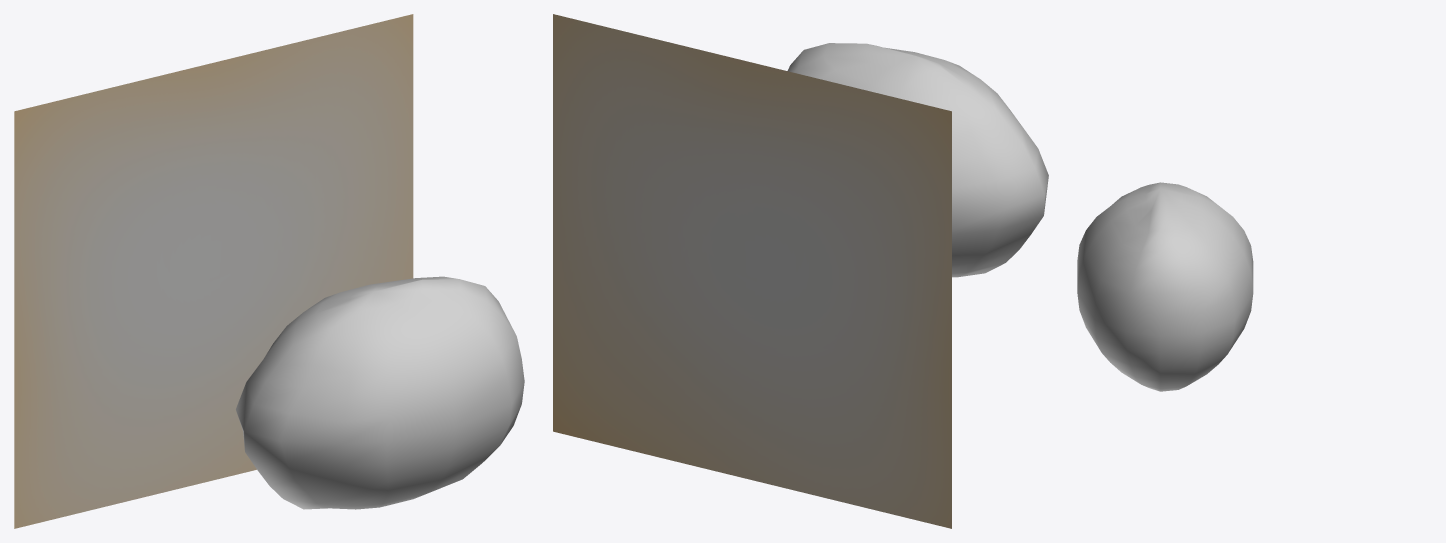
File: stoneA.fbx
3 renders of one model, left to right at view 1: azimuth 30°, elevation 25°; view 2: azimuth 150°, elevation 25°; view 3: azimuth 270°, elevation 25°, orthographic. The views are drawn at different scales.
Visible parts, largest first — view 1: pPlane1, pSphere1; view 2: pPlane1, pSphere1; view 3: pSphere1.
Part boxes in pixels (bbox=[...]): pPlane1: bbox=[14, 14, 413, 528]; pSphere1: bbox=[236, 276, 524, 509]; pPlane1: bbox=[553, 14, 951, 528]; pSphere1: bbox=[787, 43, 1048, 277]; pSphere1: bbox=[1077, 182, 1253, 391].
Size of the model in its own units: 10 by 10 by 9.15.
